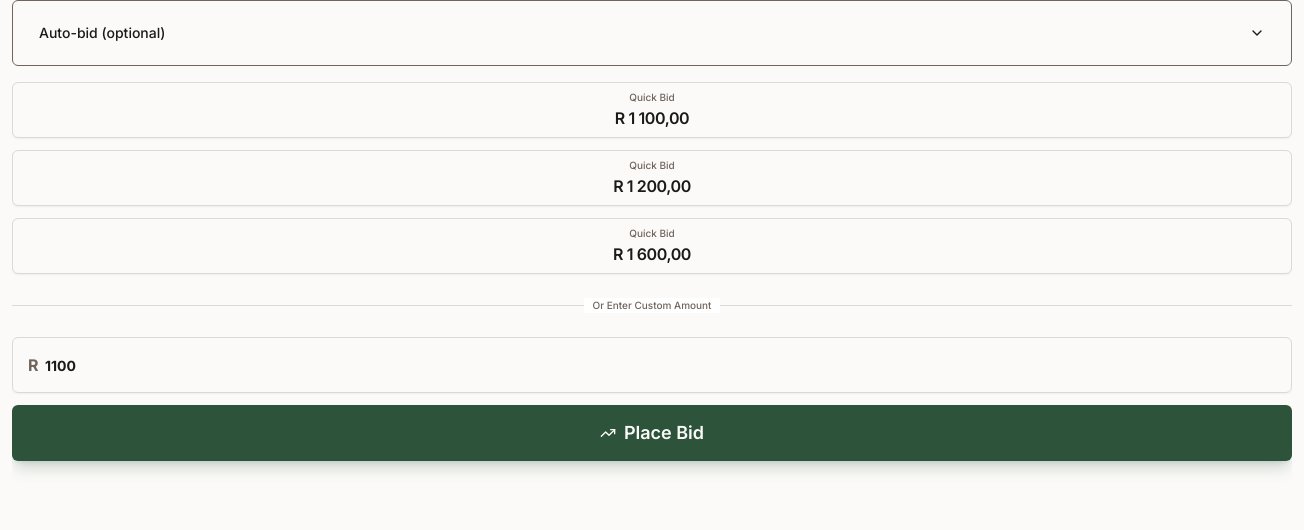
BidForm › expands and collapses the auto-bid section via the toggle
Step 1. Click the button with test id "auto-bid-toggle" → (102, 32), box x1=29 y1=17 x2=1275 y2=49
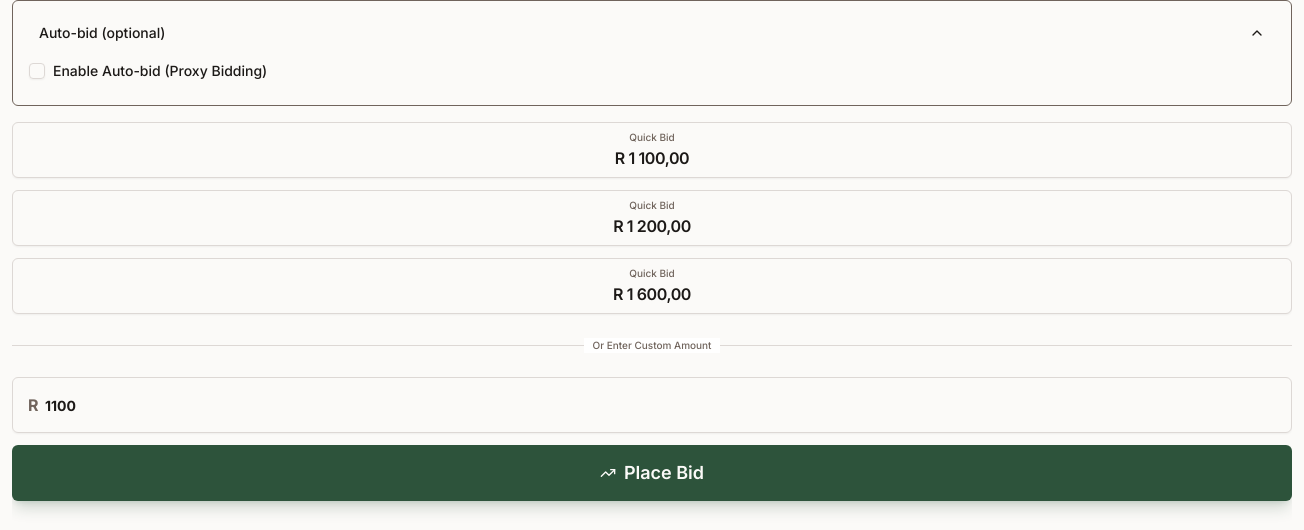
Expected: the button with test id "auto-bid-toggle" is expanded
Expected: the checkbox named "enable auto-bid" is shown, x1=29 y1=63 x2=45 y2=79
Step 2. Click the button with test id "auto-bid-toggle" → (102, 32), box x1=29 y1=17 x2=1275 y2=49
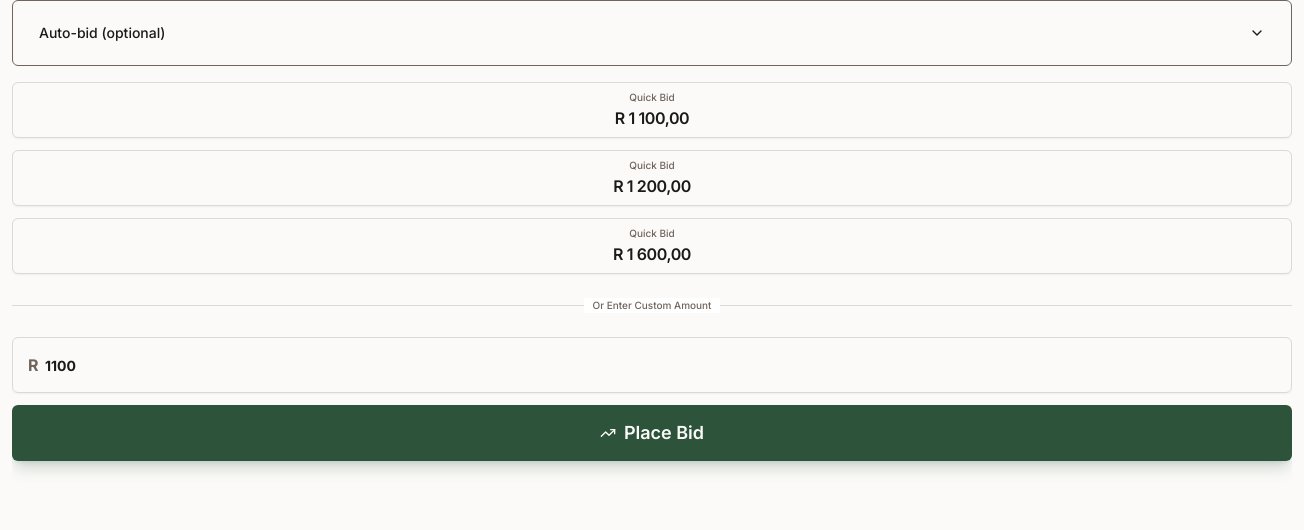
Expected: the button with test id "auto-bid-toggle" is collapsed, x1=29 y1=17 x2=1275 y2=49
Expected: the label labelled "Enable Auto-bid" is gone
